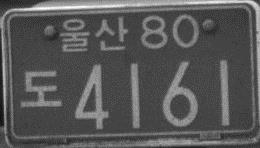0: (172, 13, 200, 49)
1: (128, 61, 145, 130), (216, 58, 232, 126)
4: (73, 61, 110, 131)
6: (161, 59, 200, 129)
8: (139, 14, 169, 50)
도: (18, 68, 64, 108)
울산_O: (59, 14, 129, 54)
